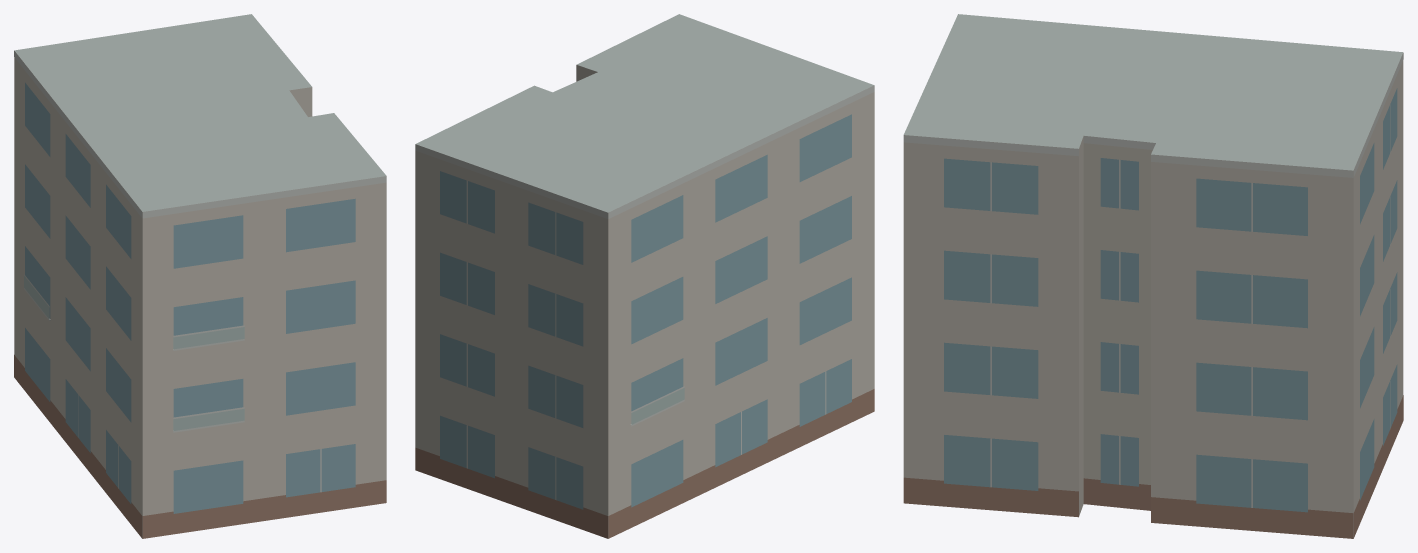
File: survey-upis-32785022.glb
3 renders of one model, left to right at view 1: azimuth 30°, elevation 25°; view 2: azimuth 150°, elevation 25°; view 3: azimuth 270°, elevation 25°, orthographic. The views are drawn at different scales.
Parts seen in each view (by area): view 1: survey-upis-32785022.tmp; view 2: survey-upis-32785022.tmp; view 3: survey-upis-32785022.tmp.
Boxes of the visible parts, x1,y1,x2,y2 form: survey-upis-32785022.tmp: [14, 14, 386, 538]; survey-upis-32785022.tmp: [415, 14, 874, 538]; survey-upis-32785022.tmp: [903, 14, 1403, 538].
Bounding box in the file's own units: 11.13 × 12.2 × 15.02.
